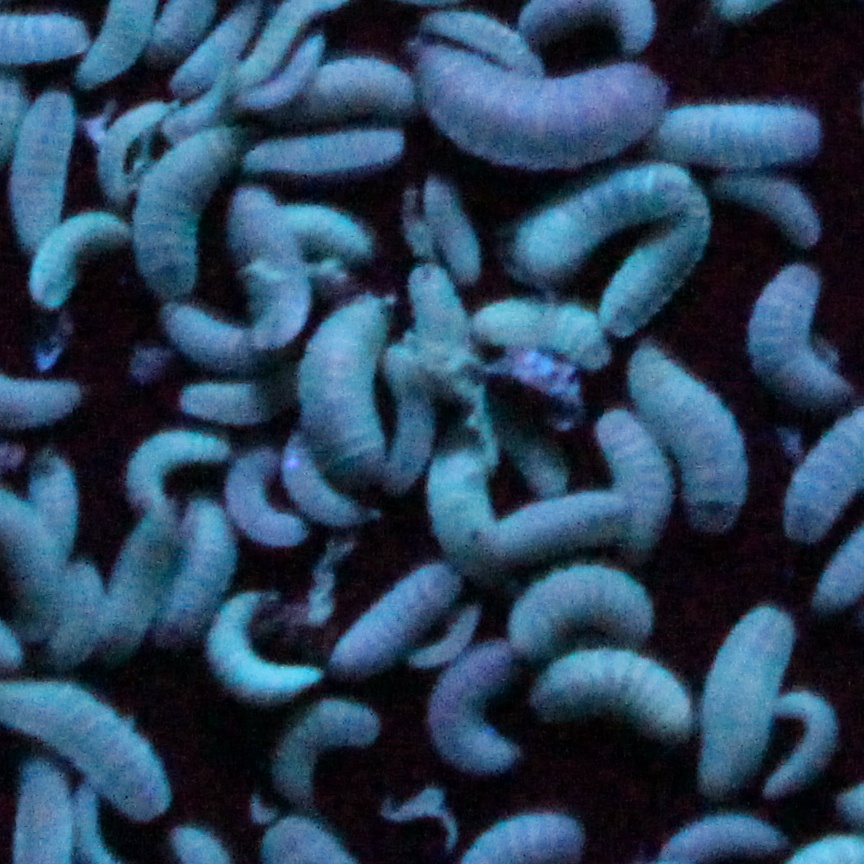larve: (409, 46, 673, 167), (622, 341, 744, 513), (514, 171, 693, 279), (298, 289, 393, 476), (135, 121, 237, 294), (701, 607, 790, 785), (527, 653, 698, 740), (745, 266, 845, 410), (599, 215, 711, 326), (339, 562, 457, 667), (212, 596, 316, 711), (509, 571, 655, 651), (6, 85, 77, 245), (647, 110, 826, 169), (431, 644, 514, 771), (237, 187, 298, 353), (271, 709, 379, 800), (486, 492, 637, 556), (103, 517, 172, 656), (417, 459, 504, 569), (468, 300, 603, 369), (115, 433, 227, 515), (401, 274, 485, 374), (28, 208, 113, 305), (599, 417, 665, 541), (375, 346, 432, 487), (716, 161, 814, 240), (240, 128, 404, 174), (172, 499, 227, 635), (224, 453, 299, 546), (175, 10, 255, 95), (280, 438, 358, 525), (296, 58, 408, 115), (775, 687, 832, 797), (94, 105, 162, 195), (240, 36, 326, 103), (280, 205, 376, 261), (429, 18, 537, 67), (422, 182, 475, 279), (173, 313, 257, 371), (31, 448, 76, 556), (653, 815, 785, 849), (409, 602, 478, 666), (180, 385, 268, 417)
